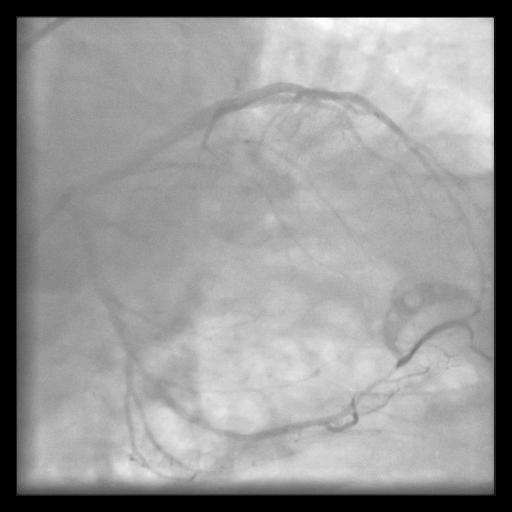Stenosis: (127, 353, 167, 394)
